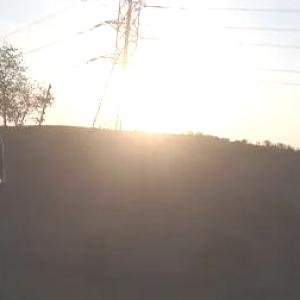follow: (0, 70, 15, 299)
